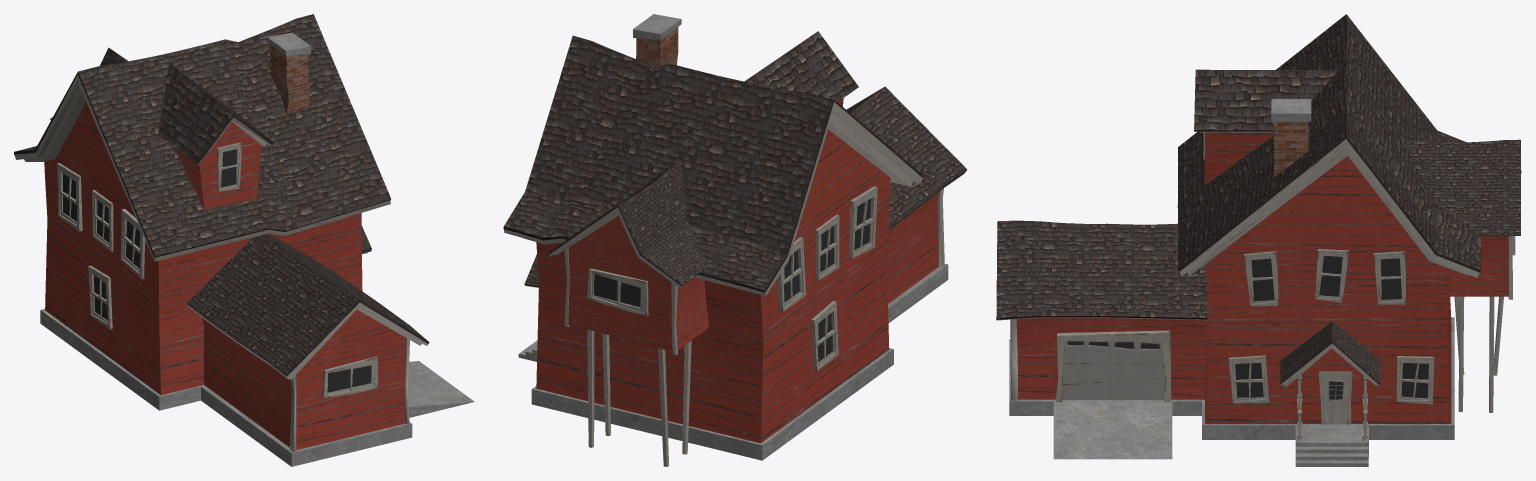
3 views of the same model, side by side, from view 1: azimuth 30°, elevation 25°; view 2: azimuth 150°, elevation 25°; view 3: azimuth 270°, elevation 25° (orthographic). The views are drawn at different scales.
Visible parts, largest first — view 1: SM_GenericHouse_03.001_1, SM_GenericHouse_03_0; view 2: SM_GenericHouse_03.001_1, SM_GenericHouse_03_0; view 3: SM_GenericHouse_03.001_1, SM_GenericHouse_03_0.
Boxes of the visible parts, box(x1,y1,x2,y2) form: SM_GenericHouse_03.001_1: box(14, 14, 474, 466); SM_GenericHouse_03_0: box(57, 32, 377, 398); SM_GenericHouse_03.001_1: box(503, 31, 967, 466); SM_GenericHouse_03_0: box(587, 14, 877, 370); SM_GenericHouse_03.001_1: box(996, 14, 1521, 466); SM_GenericHouse_03_0: box(1010, 99, 1515, 442).
Size of the model in its own units: 15.82 by 16.71 by 24.51.
8 materials, 8 textured.
